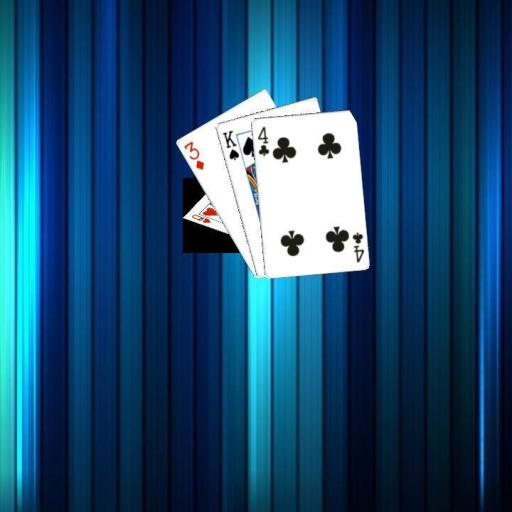card-corner: (180, 138, 205, 171), (219, 126, 240, 162), (349, 229, 366, 264), (254, 123, 270, 157)
